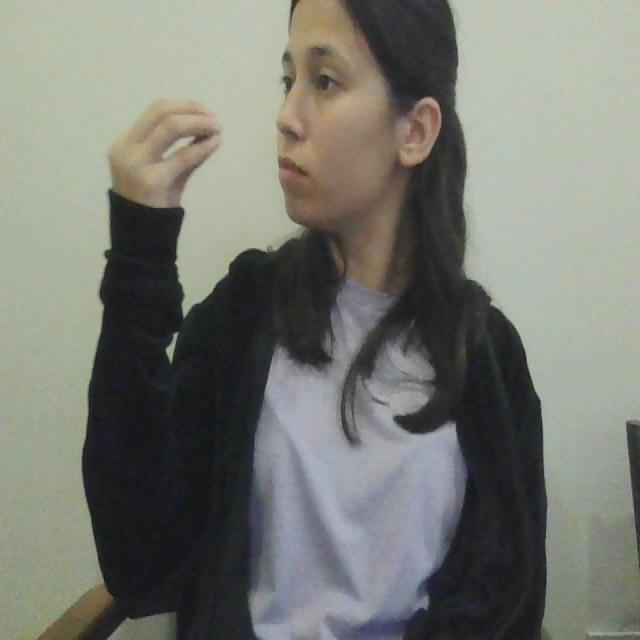Yemek: (106, 99, 303, 193)
